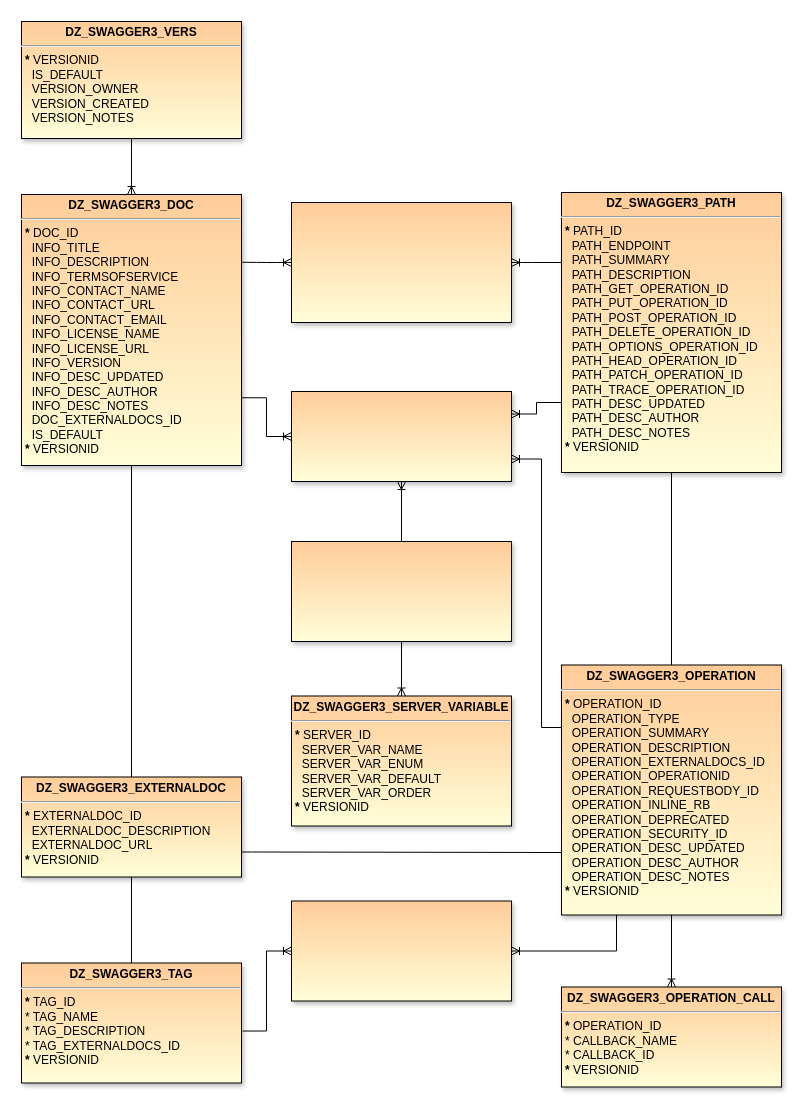
Image size: 805x1112. Some labels were removed from this diagram. Here are the shapes that lost their labels. From the top down, the centre of each, then its label:
the point at 402,264: DZ_SWAGGER3_GROUP * GROUP_ID * DOC_ID * PATH_ID PATH_ORDER * VERSIONID
the point at 402,437: DZ_SWAGGER3_PARENT_SERVER * PARENT_ID * SERVER _ID * VERSIONID
the point at 402,592: DZ_SWAGGER3_SERVER * SERVER _ID SERVER_URL SERVER_DESCRIPTION * VERSIONID
the point at 402,952: DZ_SWAGGER3_OPERATION_TAG * OPERATION_ID * TAG_NAME * TAG_ID * VERSIONID
